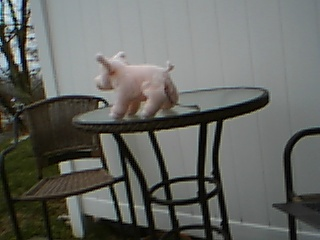piggy: (92, 50, 180, 121)
